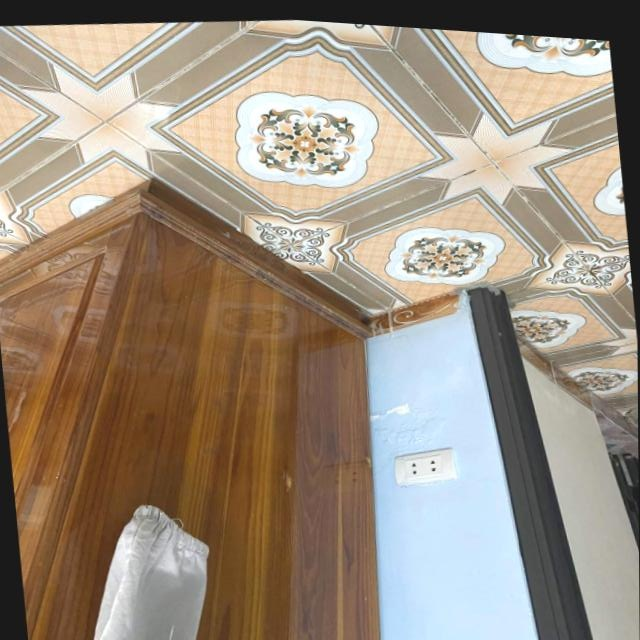outlet: (391, 445, 457, 492)
